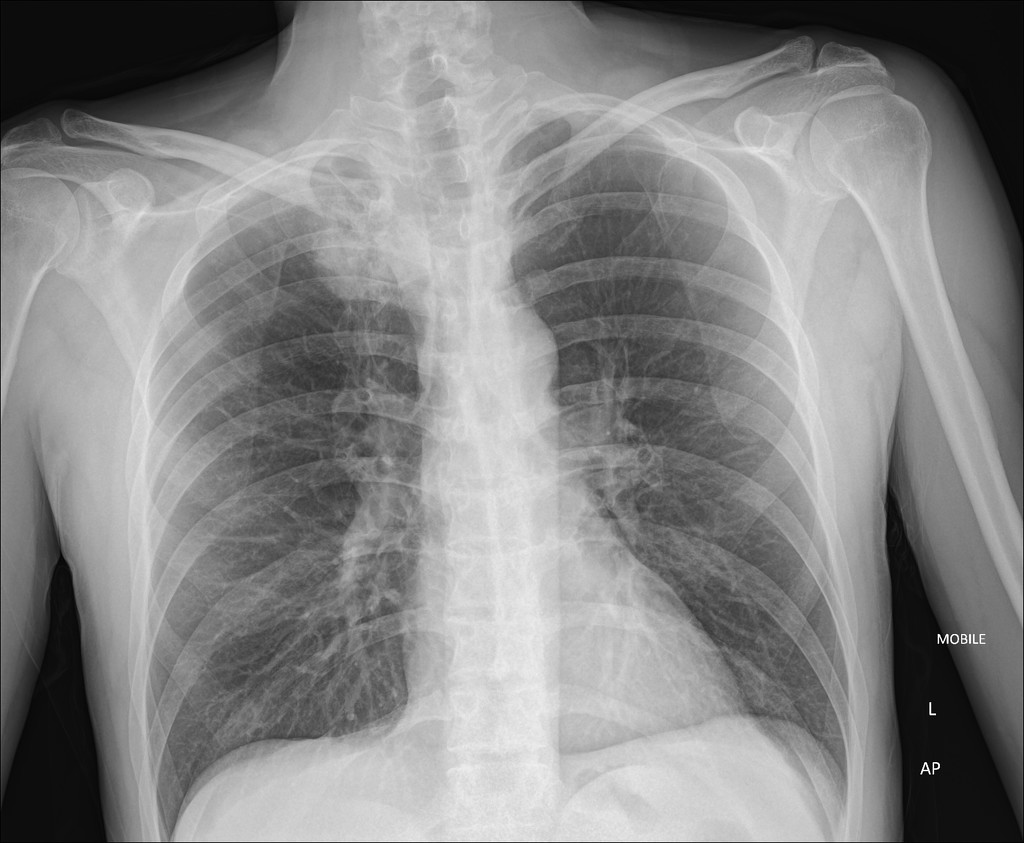cancer: (508, 191, 874, 782), (151, 259, 439, 753)
